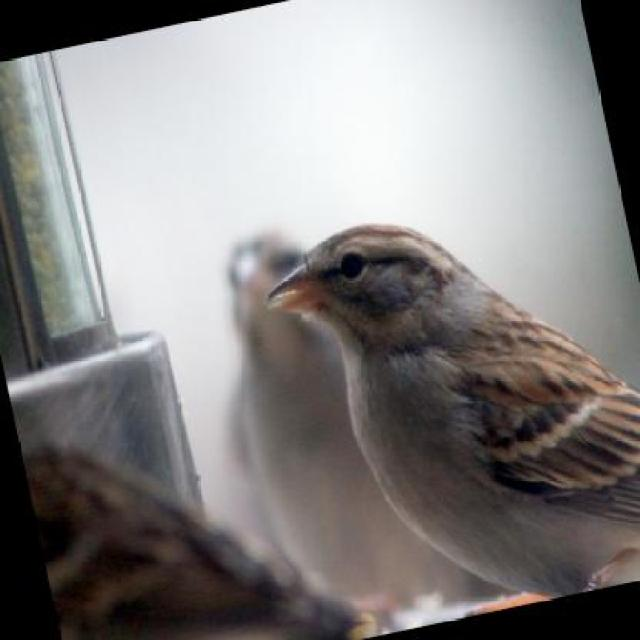sparrow: (255, 166, 640, 640)
